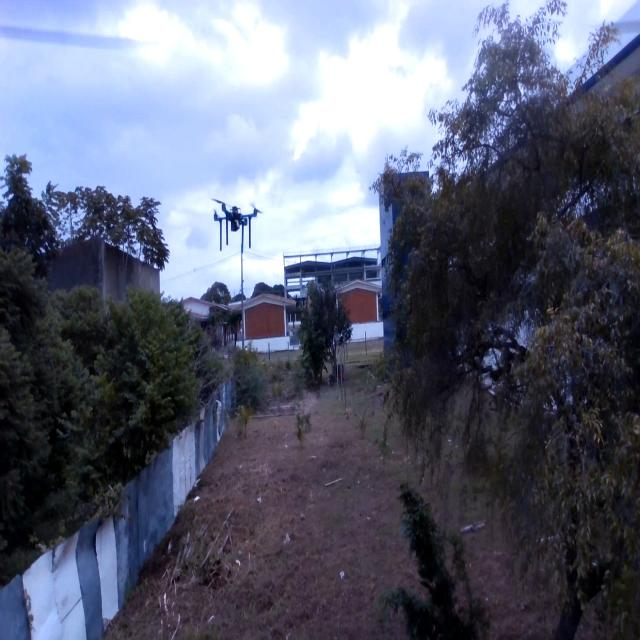-uav-: (204, 174, 273, 278)
